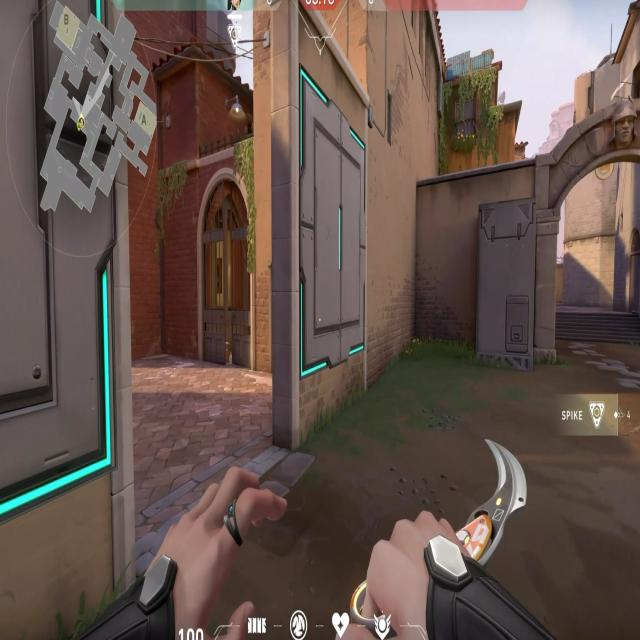Mid_Wall: (0, 64, 139, 583), (277, 0, 369, 442)
